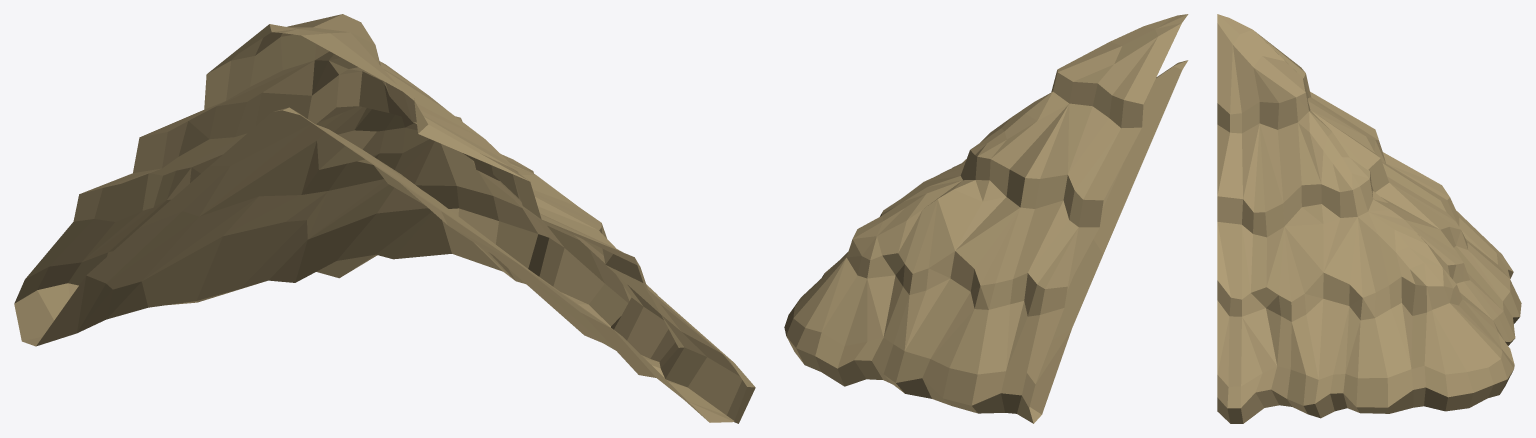
Rendered from rpgpp_ag_roof_02_6x3x3_corner_02.fbx.
3 views of the same model, side by side, from view 1: azimuth 30°, elevation 25°; view 2: azimuth 150°, elevation 25°; view 3: azimuth 270°, elevation 25° (orthographic). The views are drawn at different scales.
Visible parts, largest first — view 1: rpgpp_ag_roof_02_6x3x3_corner_02; view 2: rpgpp_ag_roof_02_6x3x3_corner_02; view 3: rpgpp_ag_roof_02_6x3x3_corner_02.
Part boxes in pixels (x1=…): rpgpp_ag_roof_02_6x3x3_corner_02: x1=14, y1=14, x2=755, y2=423; rpgpp_ag_roof_02_6x3x3_corner_02: x1=784, y1=14, x2=1188, y2=423; rpgpp_ag_roof_02_6x3x3_corner_02: x1=1217, y1=14, x2=1521, y2=423.
Size of the model in its own units: 4.05 by 4.12 by 4.
